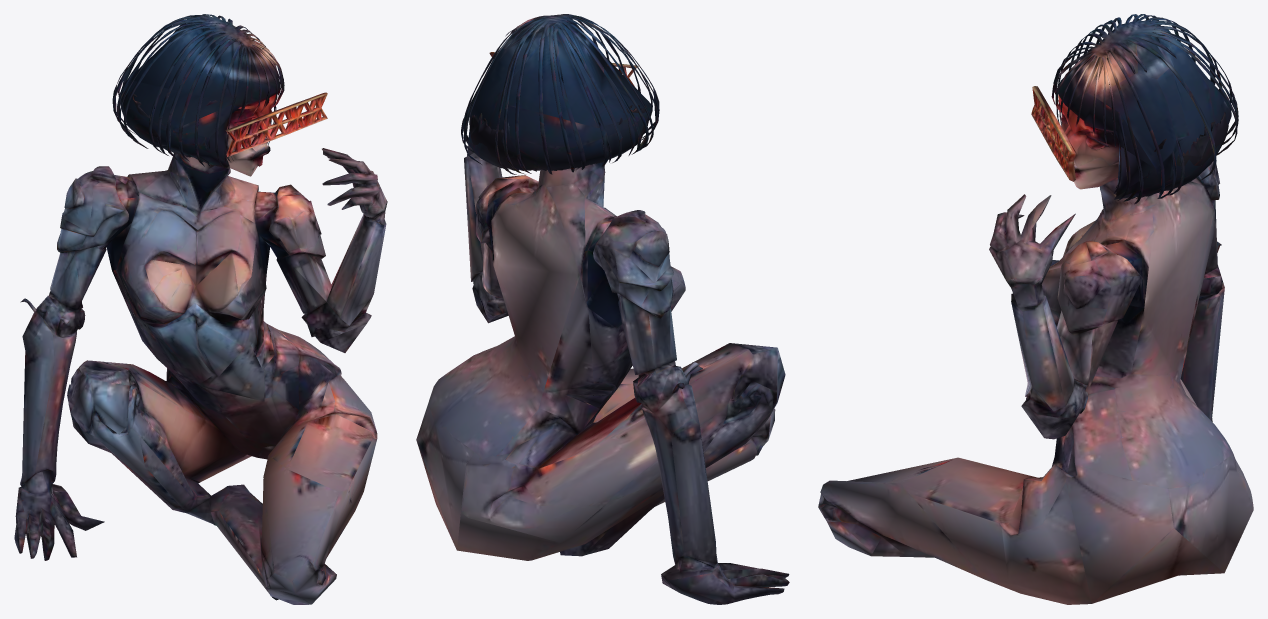
The picture shows the model from 3 angles, left to right: view 1: azimuth 30°, elevation 25°; view 2: azimuth 150°, elevation 25°; view 3: azimuth 270°, elevation 25°; orthographic projection. The views are drawn at different scales.
Parts seen in each view (by area): view 1: material; view 2: material; view 3: material.
Boxes of the visible parts, bbox=[...] form: material: bbox=[14, 14, 387, 604]; material: bbox=[416, 14, 789, 604]; material: bbox=[818, 14, 1253, 604].
Size of the model in its own units: 0.6767 by 0.9539 by 0.6993.
Materials: 1 (1 with a texture image).
